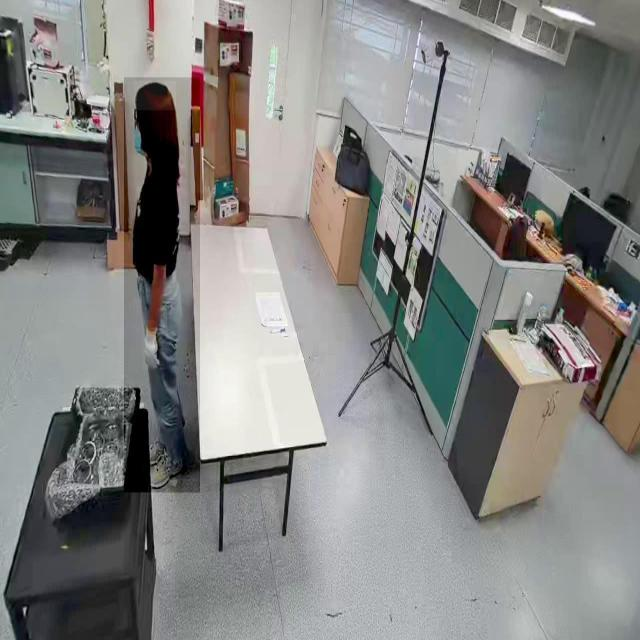face_mask: (130, 111, 152, 155)
hand_glove: (142, 320, 166, 371)
head_nohelmet: (134, 81, 176, 111)
person: (124, 78, 200, 494)
shoes: (146, 440, 187, 492)
